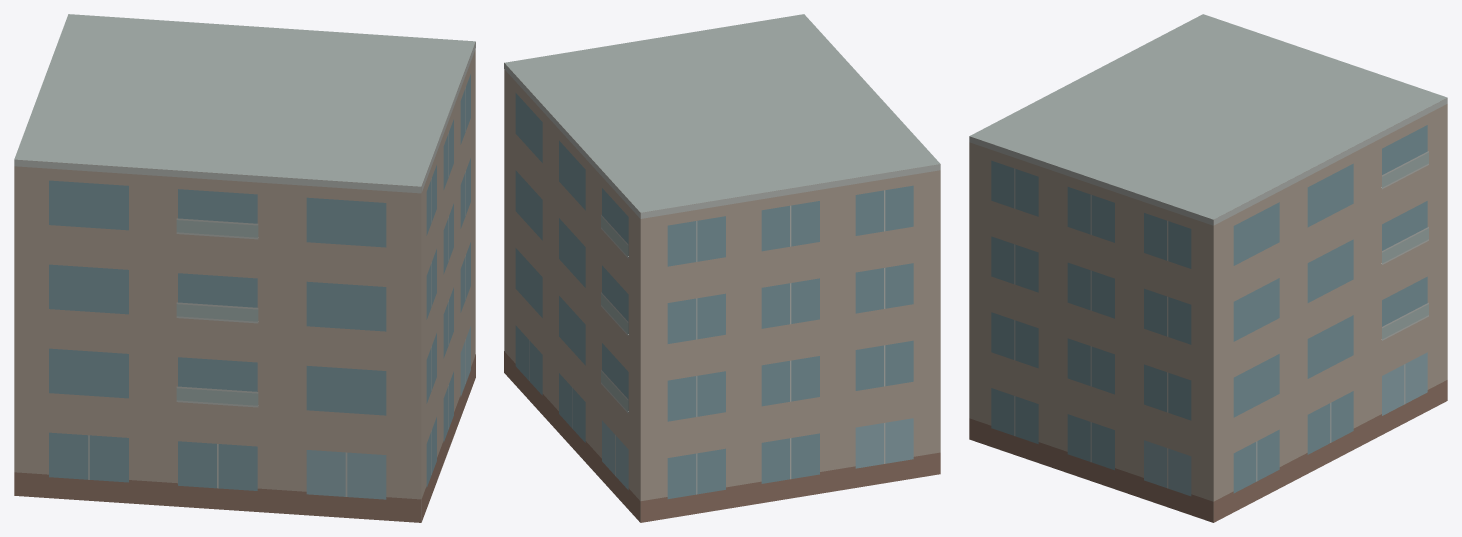
The model's file is residential-7d88f35b-fd5c-45bd-95d0-a0d0c841699a.glb.
The picture shows the model from 3 angles, left to right: view 1: azimuth 30°, elevation 25°; view 2: azimuth 150°, elevation 25°; view 3: azimuth 270°, elevation 25°; orthographic projection. The views are drawn at different scales.
Visible parts, largest first — view 1: residential-7d88f35b-fd5c-45bd-95d0-a0d0c841699a.tmp; view 2: residential-7d88f35b-fd5c-45bd-95d0-a0d0c841699a.tmp; view 3: residential-7d88f35b-fd5c-45bd-95d0-a0d0c841699a.tmp.
Part boxes in pixels (x1,y1,x2,y2): residential-7d88f35b-fd5c-45bd-95d0-a0d0c841699a.tmp: [14, 14, 475, 522]; residential-7d88f35b-fd5c-45bd-95d0-a0d0c841699a.tmp: [504, 14, 940, 522]; residential-7d88f35b-fd5c-45bd-95d0-a0d0c841699a.tmp: [969, 14, 1447, 522].
Size of the model in its own units: 17.76 by 12.2 by 17.45.
